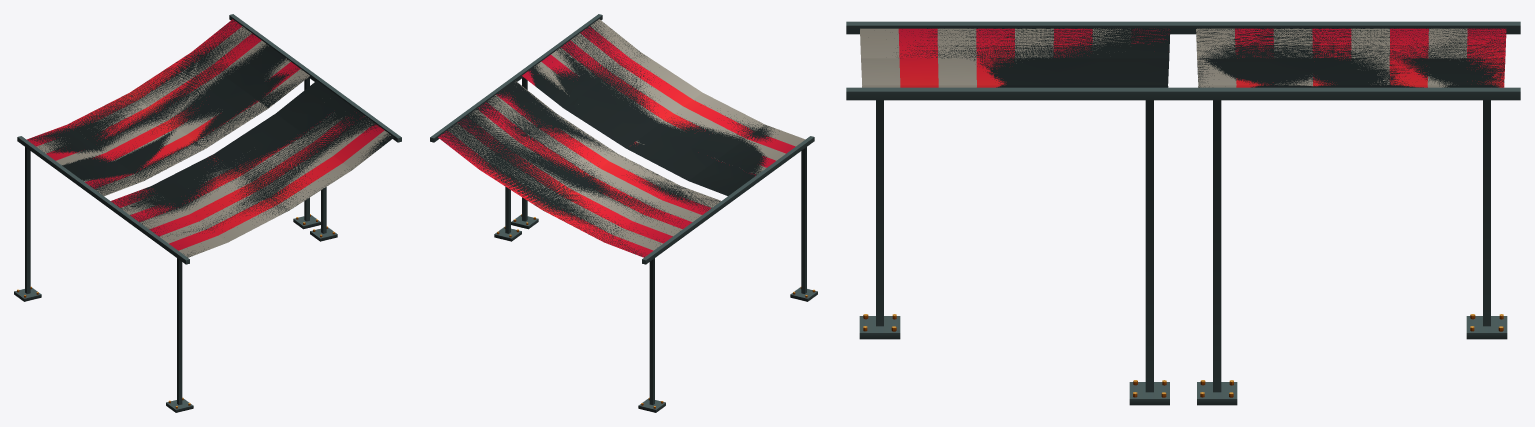
The model's file is Canopy_1A.fbx.
The picture shows the model from 3 angles, left to right: view 1: azimuth 30°, elevation 25°; view 2: azimuth 150°, elevation 25°; view 3: azimuth 270°, elevation 25°; orthographic projection. The views are drawn at different scales.
Parts seen in each view (by area): view 1: Canopy_1A; view 2: Canopy_1A; view 3: Canopy_1A.
Part boxes in pixels (x1,y1,x2,y2): Canopy_1A: [14, 14, 401, 412]; Canopy_1A: [430, 14, 817, 412]; Canopy_1A: [846, 21, 1520, 405].
Bounding box in the file's own units: 15.7 × 14.64 × 20.
